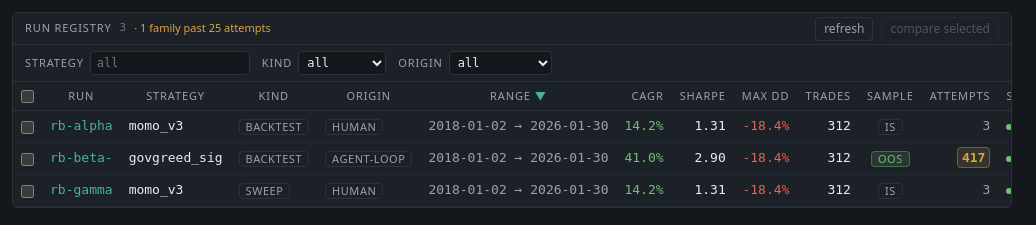
Test: RunBrowser › builds a compare link from the multi-selected rows
The width and height of the screenshot is (1036, 225).
# One selection is not a comparison.
Click the checkbox named "select rb-alpha-0001": [28, 127] box [21,121,34,134]
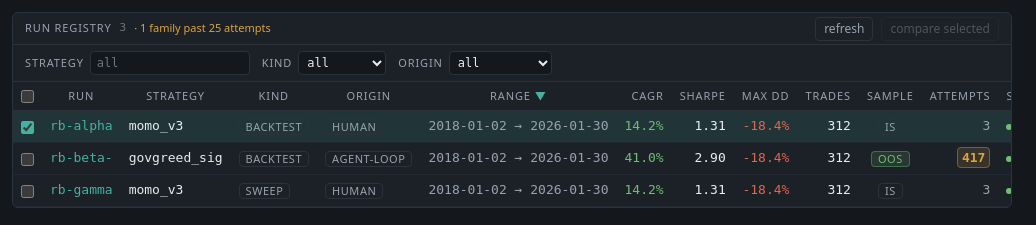
Click the checkbox named "select rb-beta-0002": [28, 159] box [21,153,34,166]
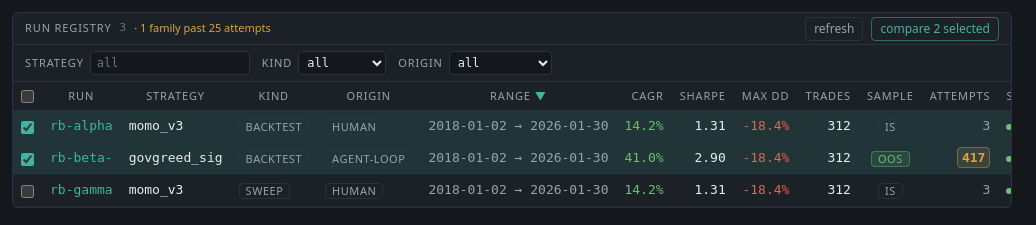
Now the link "compare 2 selected" is shown, box [871,16,999,40]
